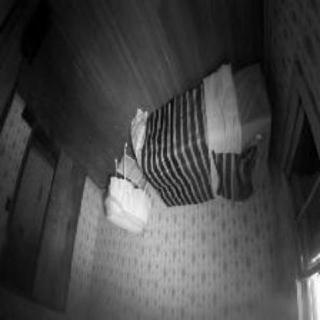other: (193, 106, 203, 204)
